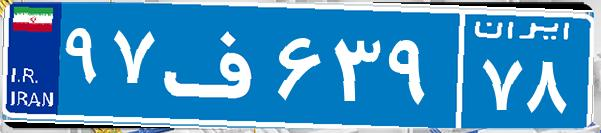3: (330, 28, 385, 110)
6: (273, 28, 330, 110)
7: (475, 38, 525, 113), (110, 28, 158, 105)
8: (525, 38, 570, 115)
9: (385, 28, 445, 110), (57, 26, 110, 107)
ف: (158, 15, 273, 115)
